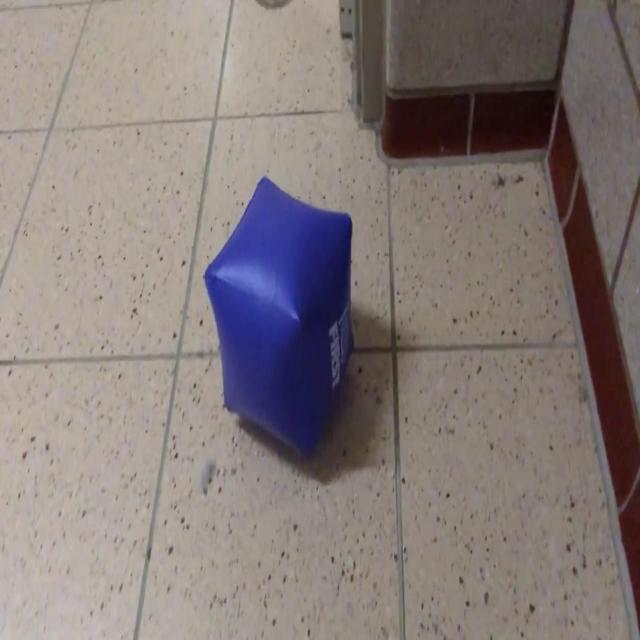frc_cube: (205, 176, 357, 464)
